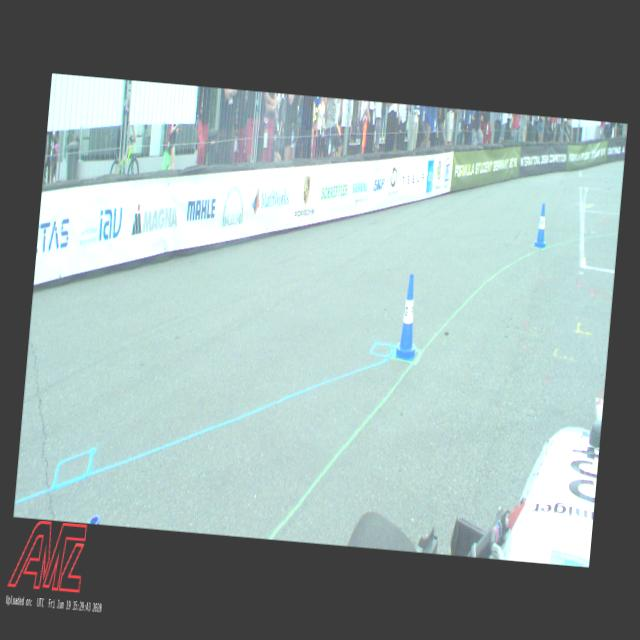blue_cone: (393, 274, 422, 359), (533, 202, 549, 248)
